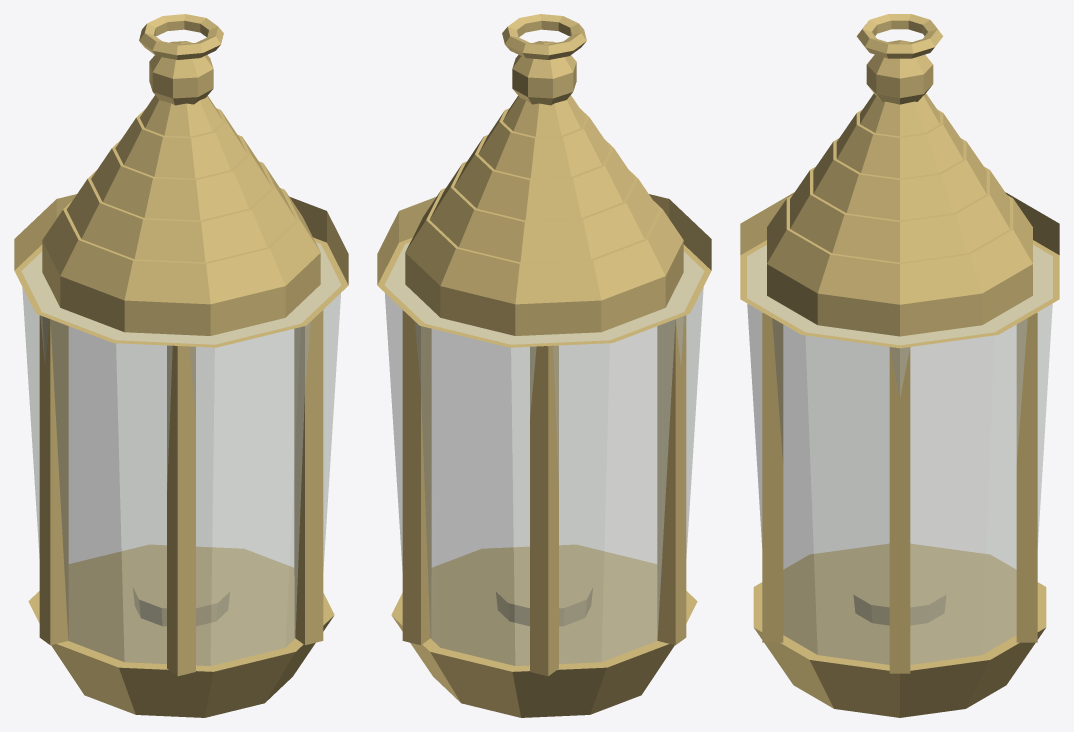
Rendered from pirate-port-and-tall-ships-stern-lantern-bd408504__30162.glb.
3 views of the same model, side by side, from view 1: azimuth 30°, elevation 25°; view 2: azimuth 150°, elevation 25°; view 3: azimuth 270°, elevation 25° (orthographic).
Visible parts, largest first — view 1: stern-lantern; view 2: stern-lantern; view 3: stern-lantern.
Part boxes in pixels (x1=…): stern-lantern: x1=14, y1=14, x2=348, y2=717; stern-lantern: x1=377, y1=14, x2=711, y2=717; stern-lantern: x1=740, y1=14, x2=1059, y2=717.
Size of the model in its own units: 0.4799 by 1.01 by 0.4565.
